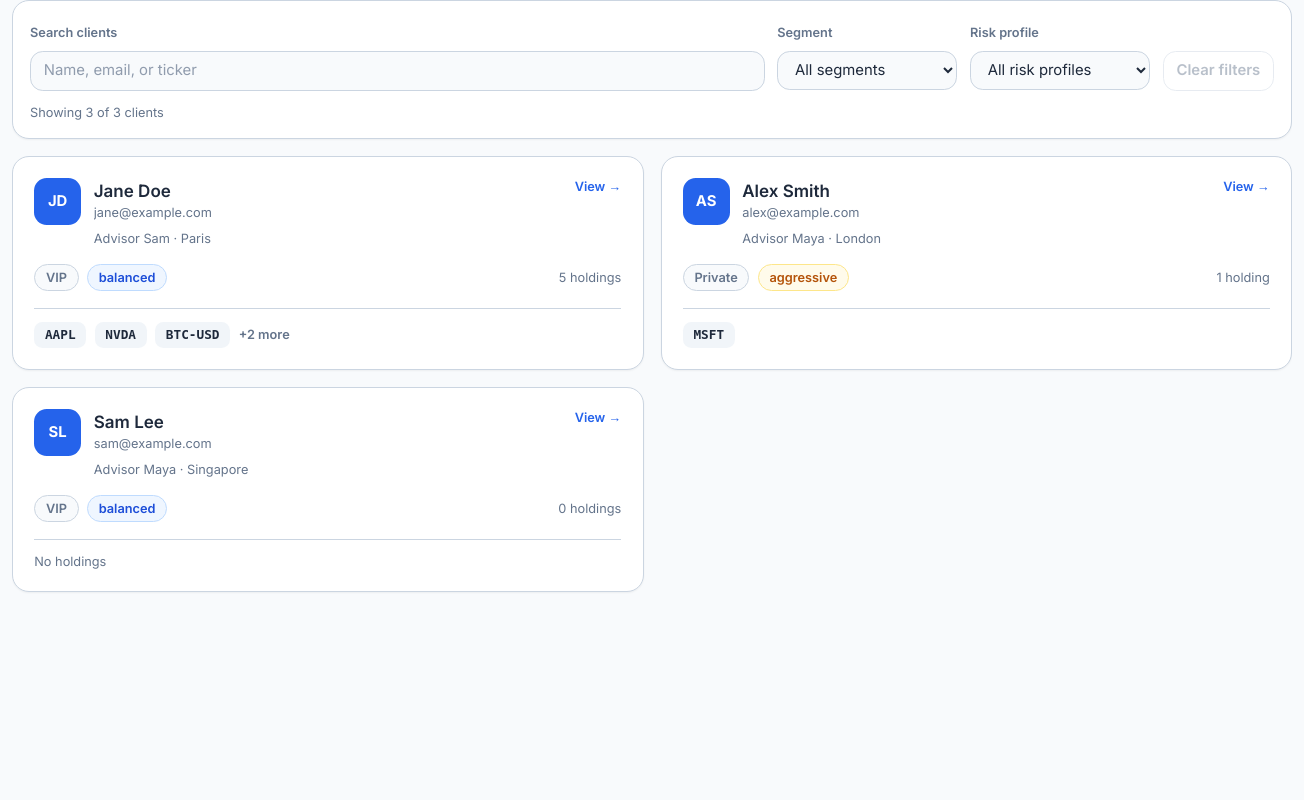
Scenario: ClientsList › combines segment and risk filters and clears them
Step 1. Select "VIP" in the dropdown labelled "Segment" → [867, 70], box [777,51,957,90]
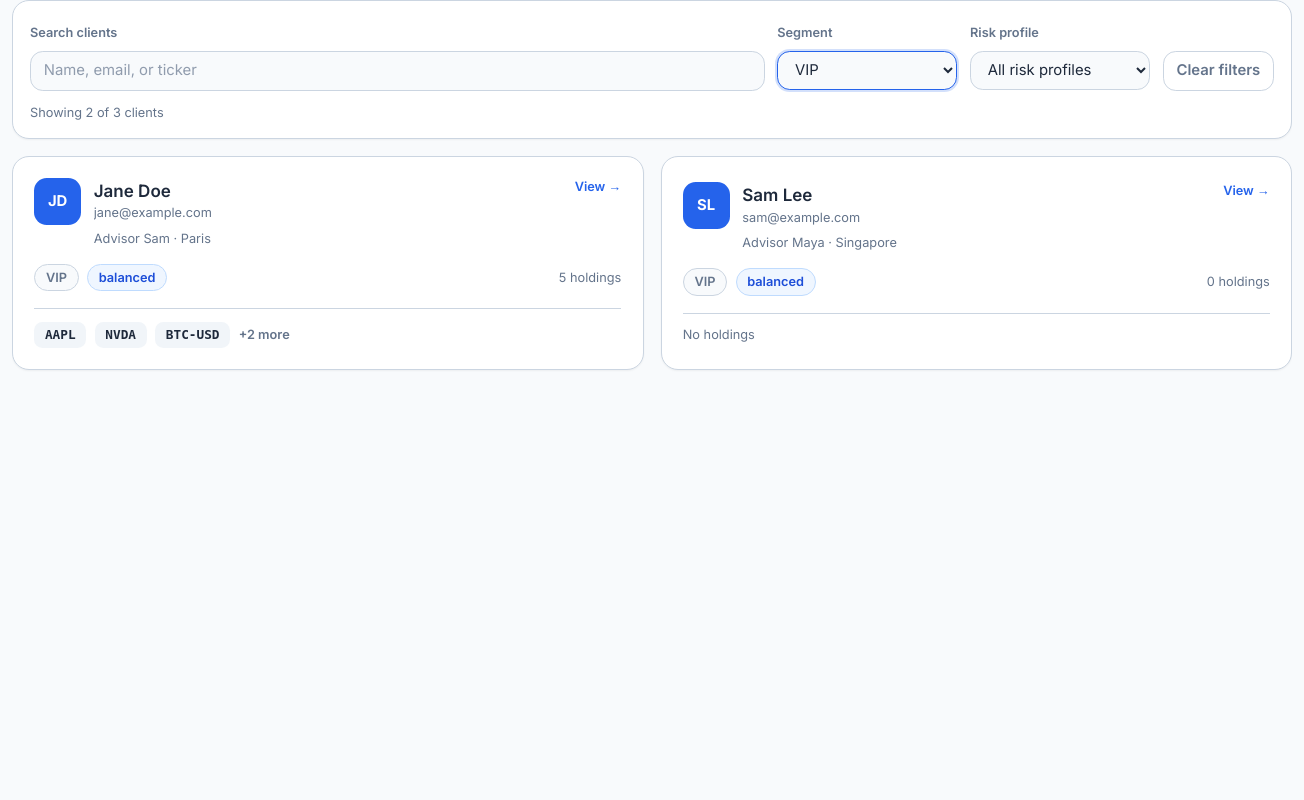
Step 2. Select "aggressive" in the dropdown labelled "Risk profile" → [1060, 70], box [970,51,1150,90]
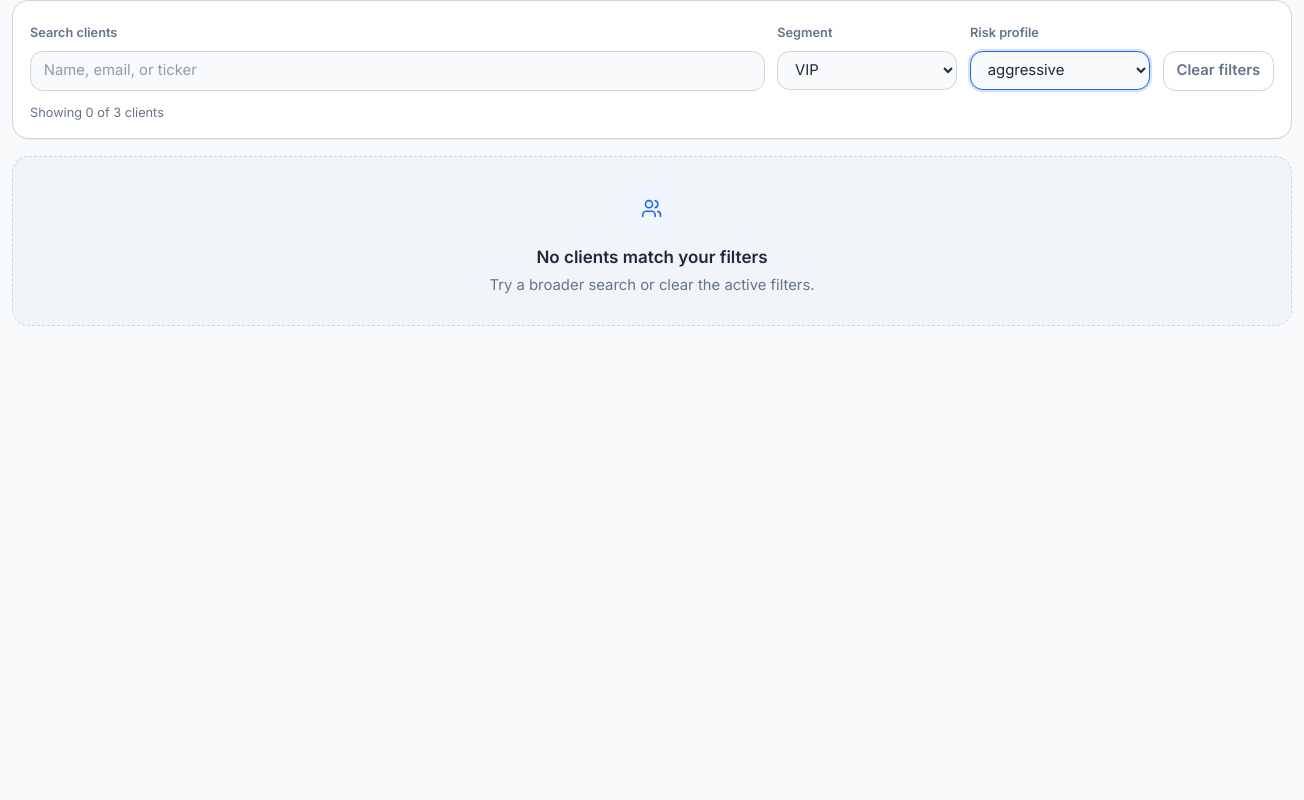
Expected: the heading "No clients match your filters" is shown, [536,245,768,270]
Step 3. Click the button "Clear filters" → [1218, 71], box [1163,51,1274,91]
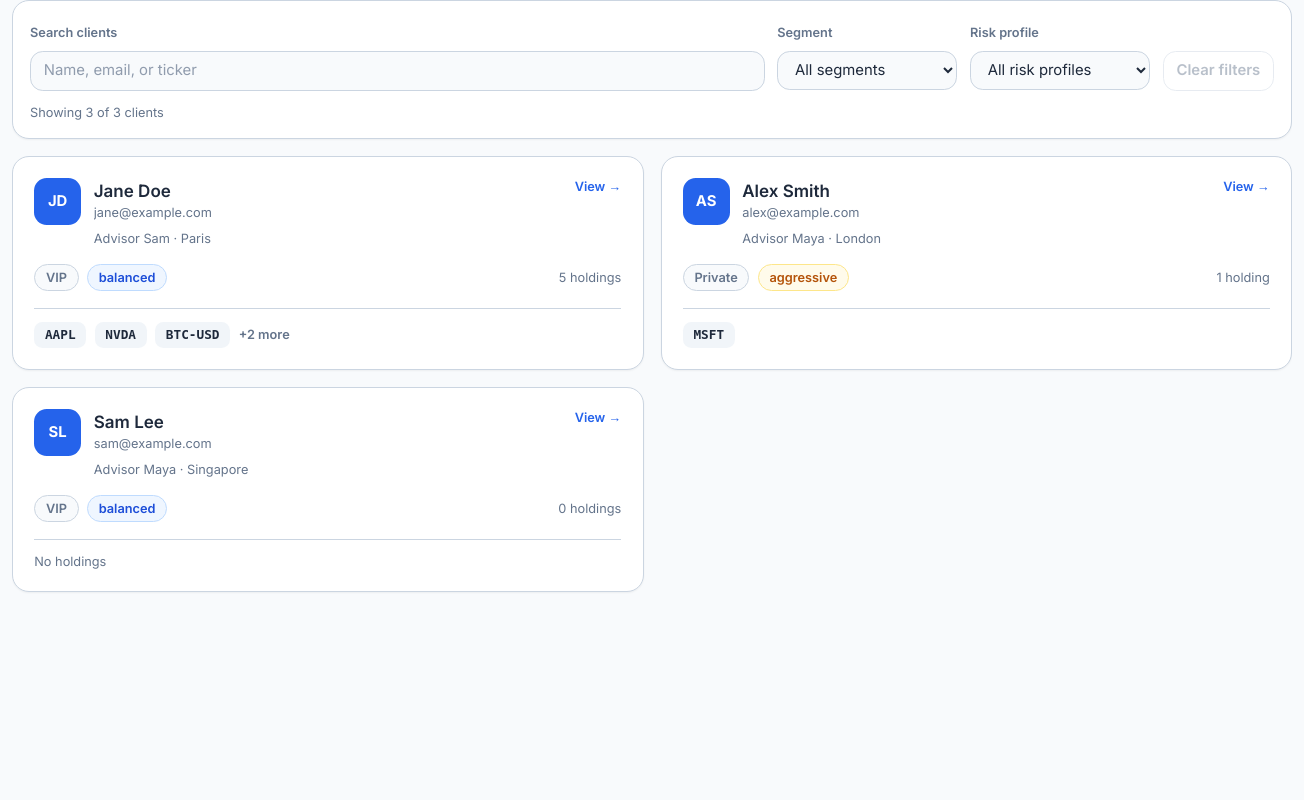
Expected: the text "Jane Doe" is shown, [94,181,171,201]
Expected: the text "Alex Smith" is shown, [742,181,830,201]
Expected: the text "Sam Lee" is shown, [94,412,164,432]
